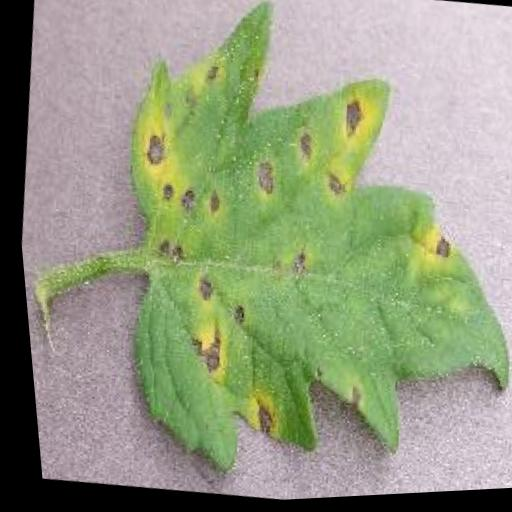Septoria: (68, 0, 512, 509)
